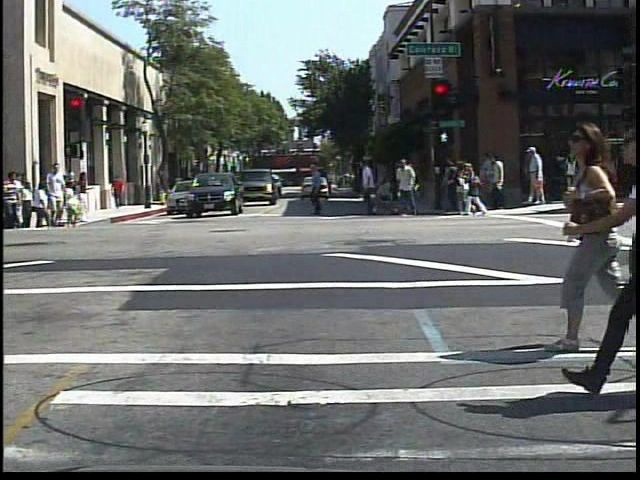person: (547, 105, 630, 353), (43, 163, 71, 230), (526, 144, 551, 207), (3, 167, 25, 231), (111, 174, 129, 211), (171, 169, 189, 199)
